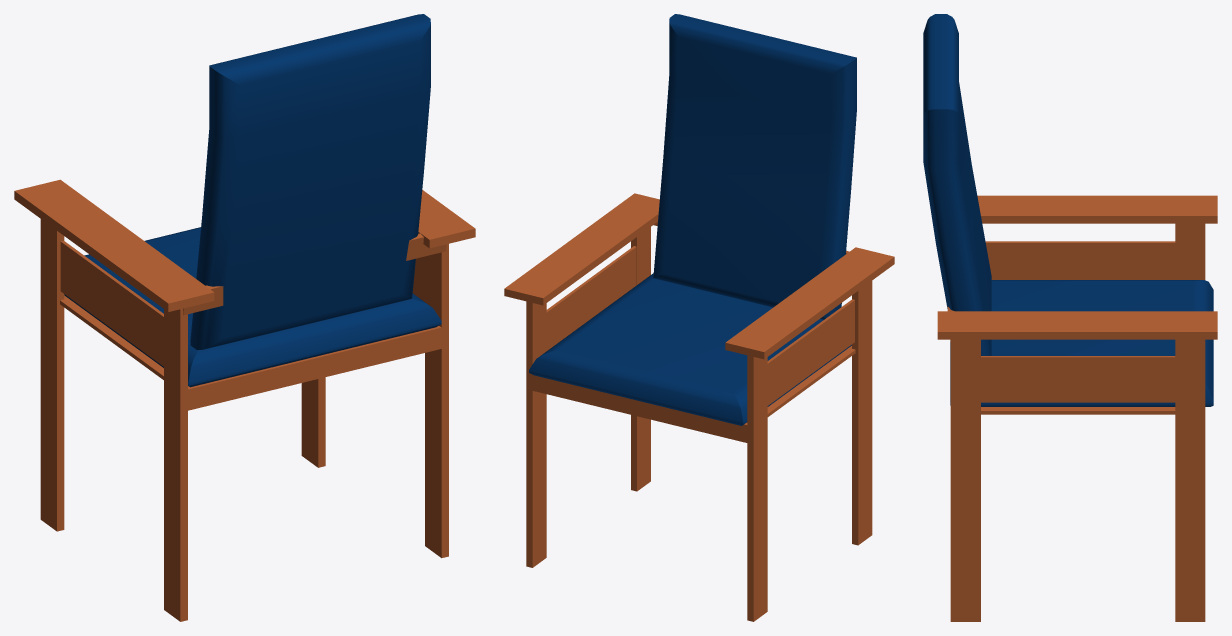
Rendered from Chair.fbx.
The picture shows the model from 3 angles, left to right: view 1: azimuth 30°, elevation 25°; view 2: azimuth 150°, elevation 25°; view 3: azimuth 270°, elevation 25°; orthographic projection. The views are drawn at different scales.
Visible parts, largest first — view 1: Chair; view 2: Chair; view 3: Chair.
Boxes of the visible parts, bbox=[...] form: Chair: bbox=[14, 14, 475, 621]; Chair: bbox=[504, 14, 894, 621]; Chair: bbox=[923, 14, 1217, 621].
Bounding box in the file's own units: 0.7986 × 1.37 × 0.7291.
